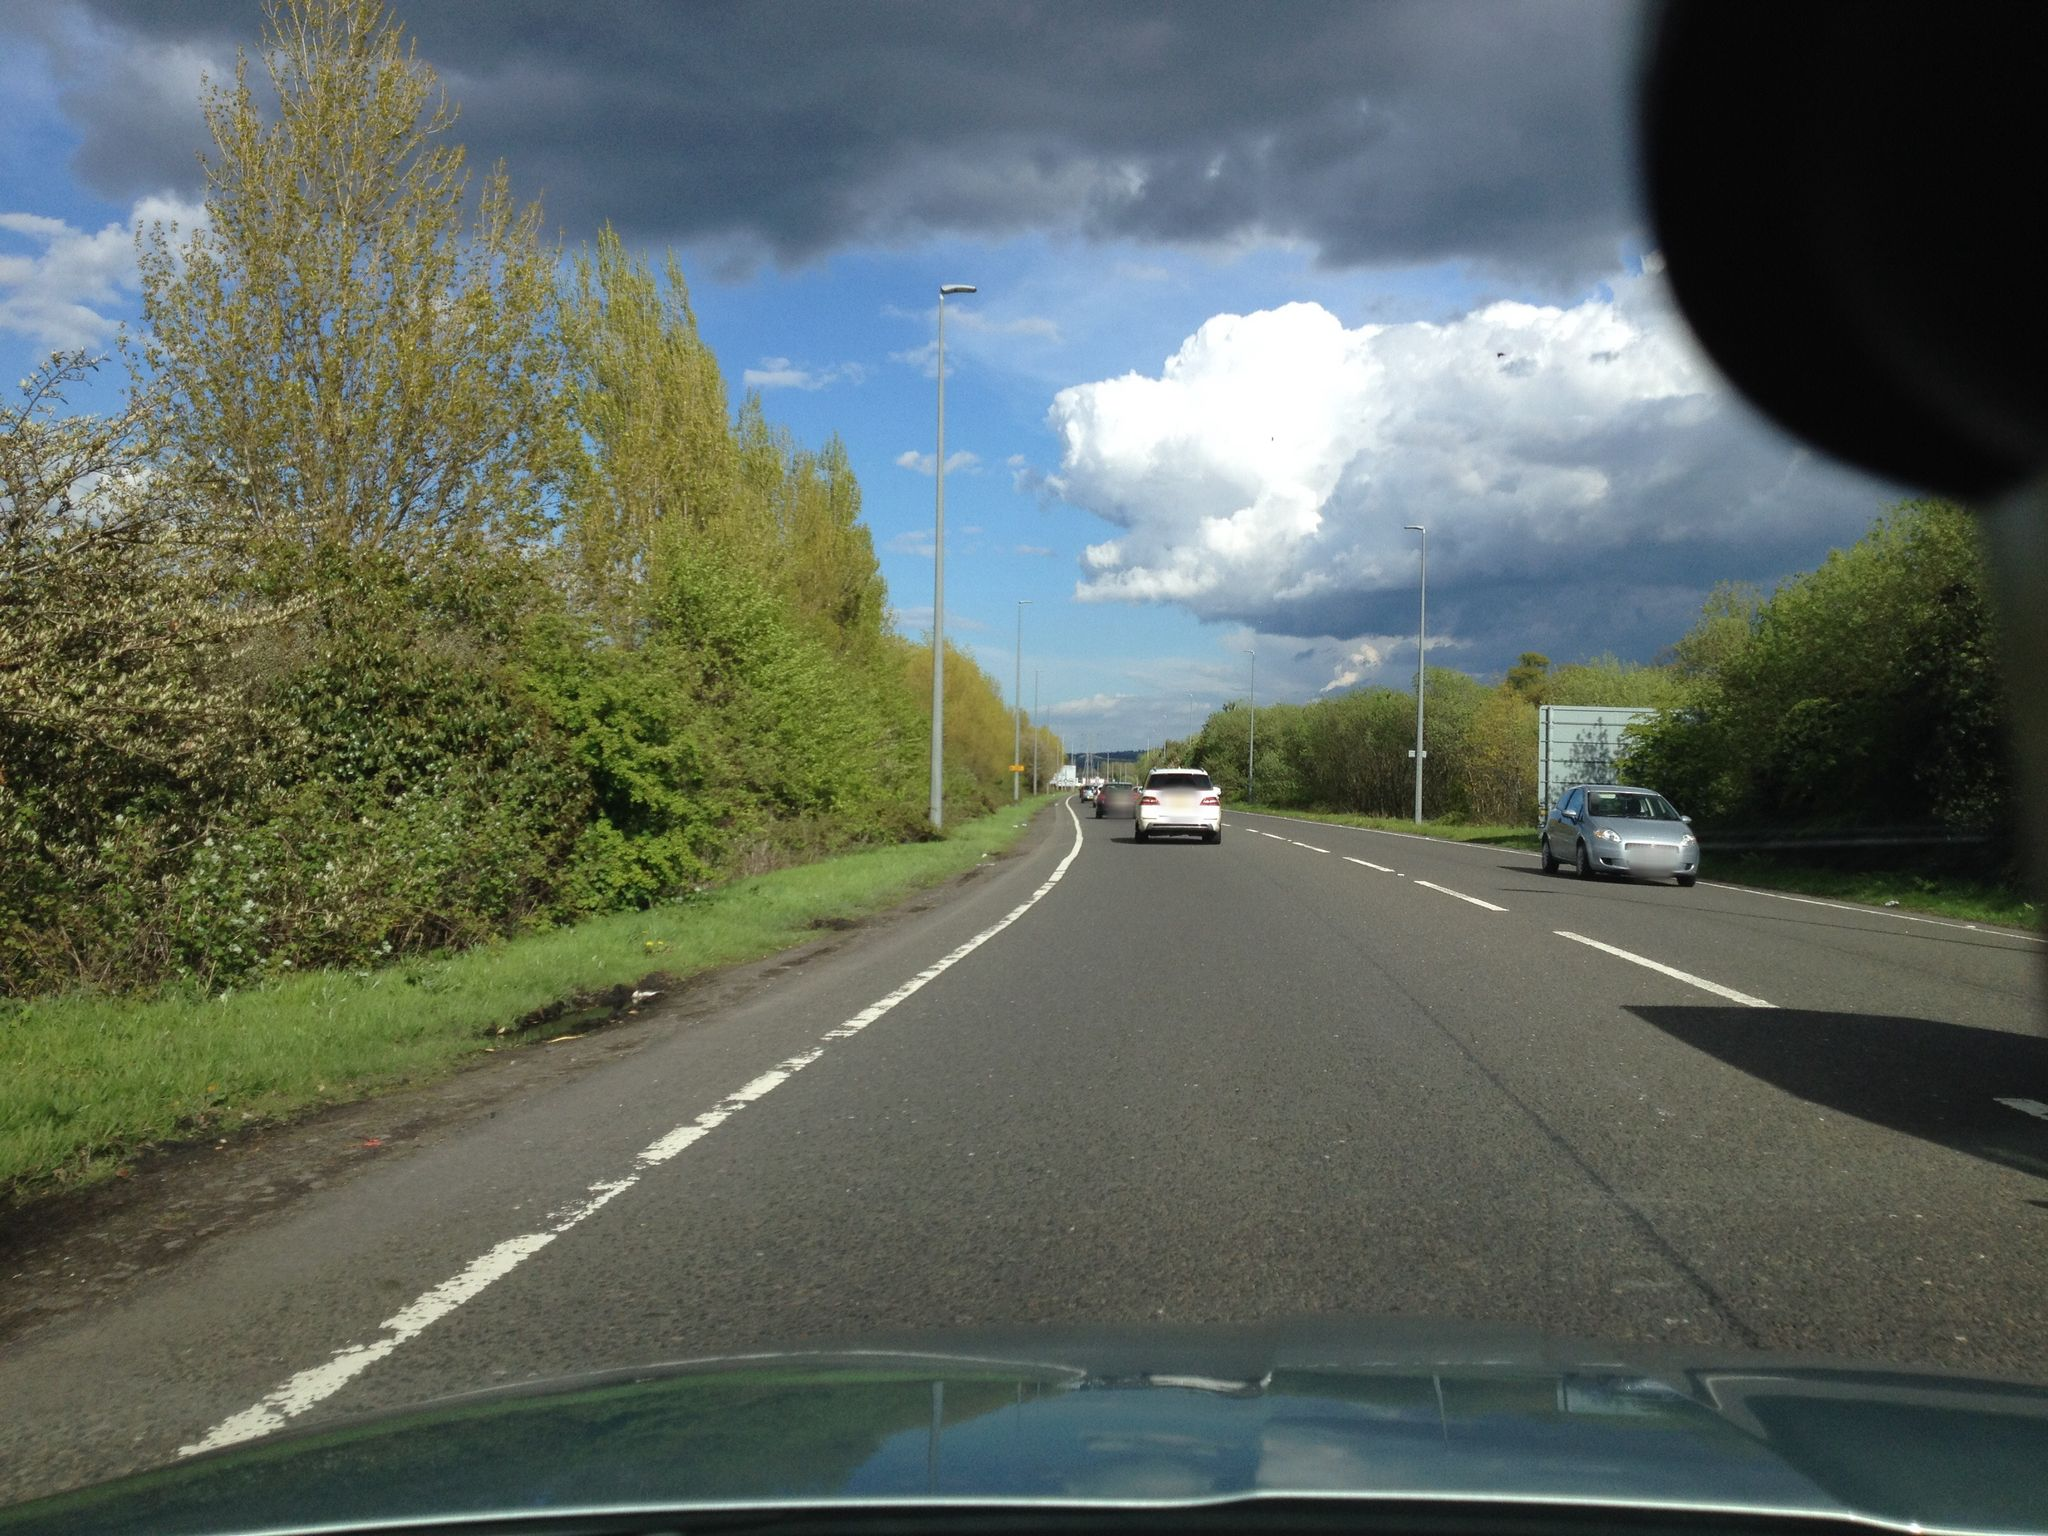car: (1542, 784, 1700, 886), (1130, 765, 1222, 844), (1093, 781, 1135, 820)
